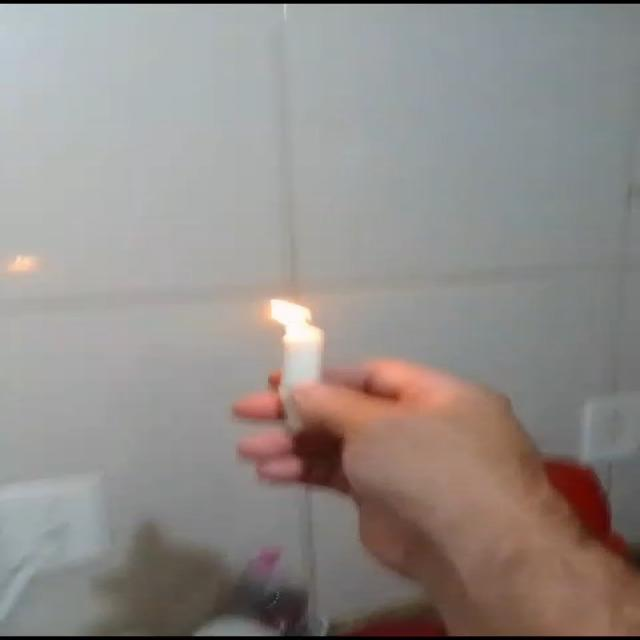fogo-ypXI: (267, 296, 313, 327)
